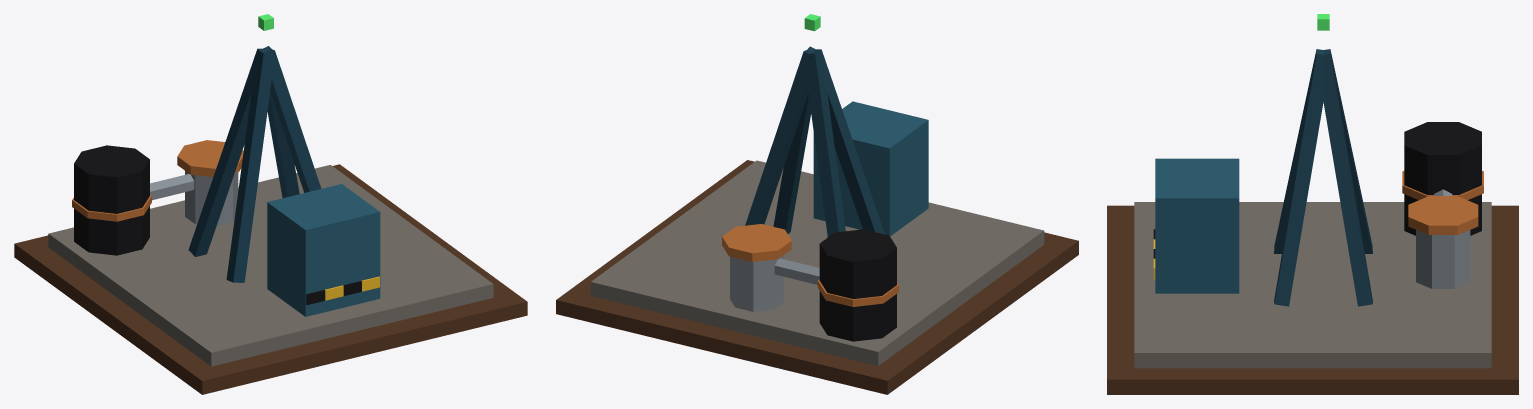
The model's file is oil_extractor.obj.
The picture shows the model from 3 angles, left to right: view 1: azimuth 30°, elevation 25°; view 2: azimuth 150°, elevation 25°; view 3: azimuth 270°, elevation 25°; orthographic projection. The views are drawn at different scales.
Parts seen in each view (by area): view 1: Body, Post; view 2: Body, Post; view 3: Body, Post.
Part boxes in pixels (<box>): Body: <box>14,140,527,394</box>; Post: <box>188,46,321,282</box>; Body: <box>556,101,1078,394</box>; Post: <box>745,46,884,237</box>; Body: <box>1107,122,1518,394</box>; Post: <box>1274,49,1372,306</box>.
Size of the model in its own units: 1.96 by 1.53 by 1.96.
